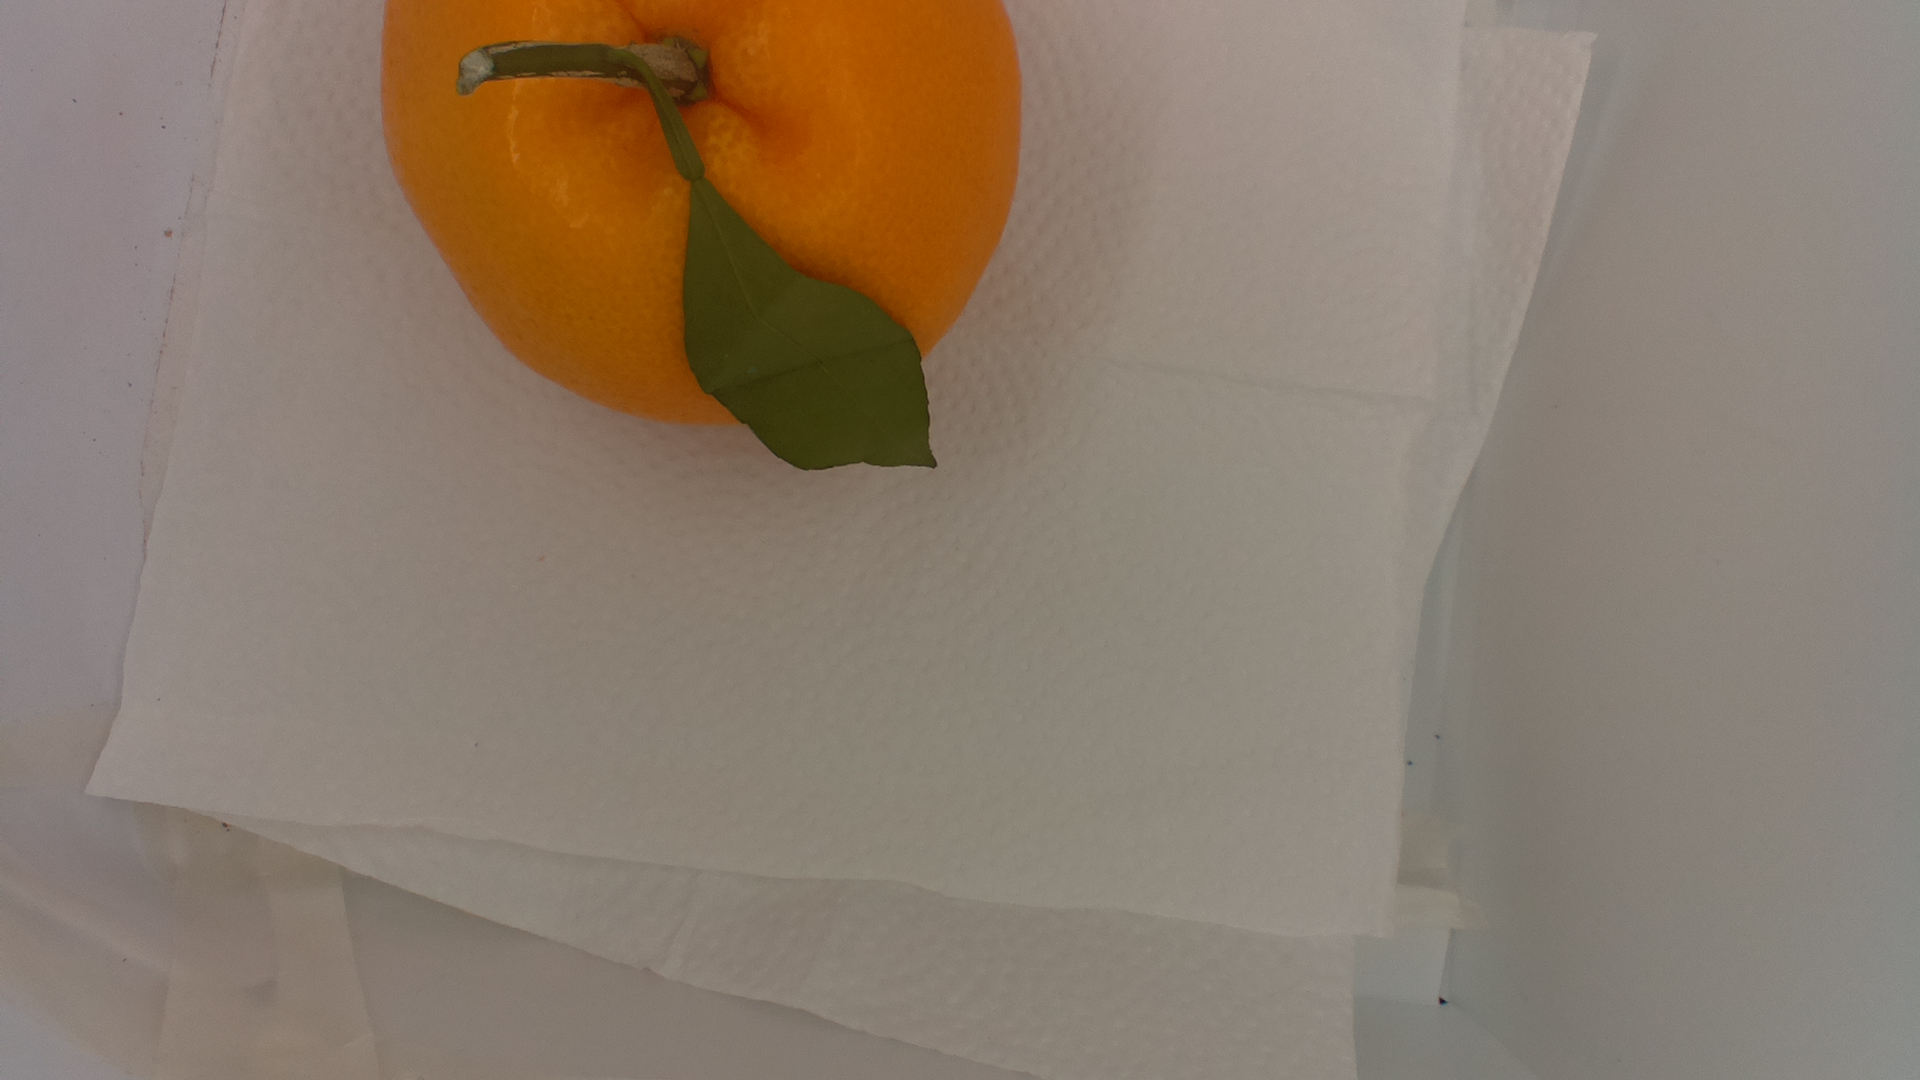fruit: (375, 1, 1025, 479)
